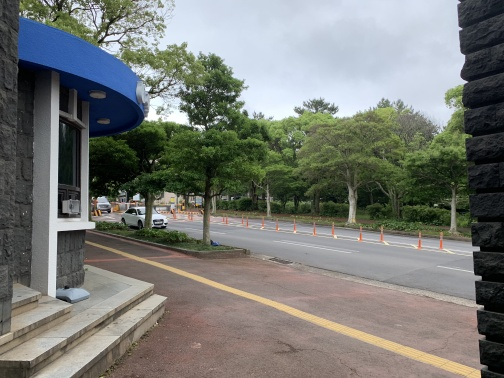Security Office: (1, 17, 160, 373)
